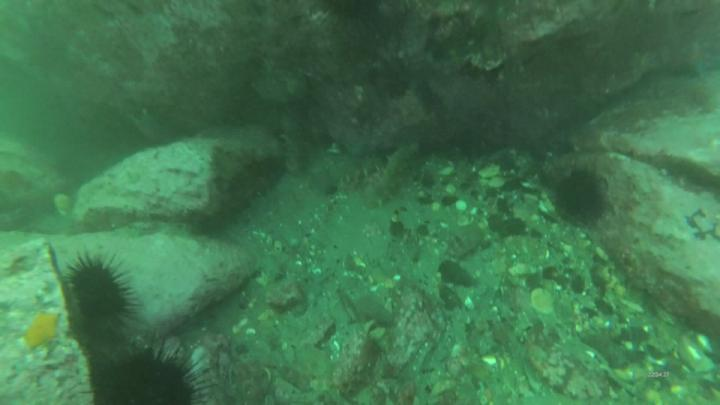echinus: (114, 356, 195, 405), (71, 267, 128, 323), (557, 169, 604, 213)
holothurian: (368, 144, 420, 205), (317, 158, 386, 188), (282, 114, 310, 173)
starfish: (27, 314, 59, 348)
